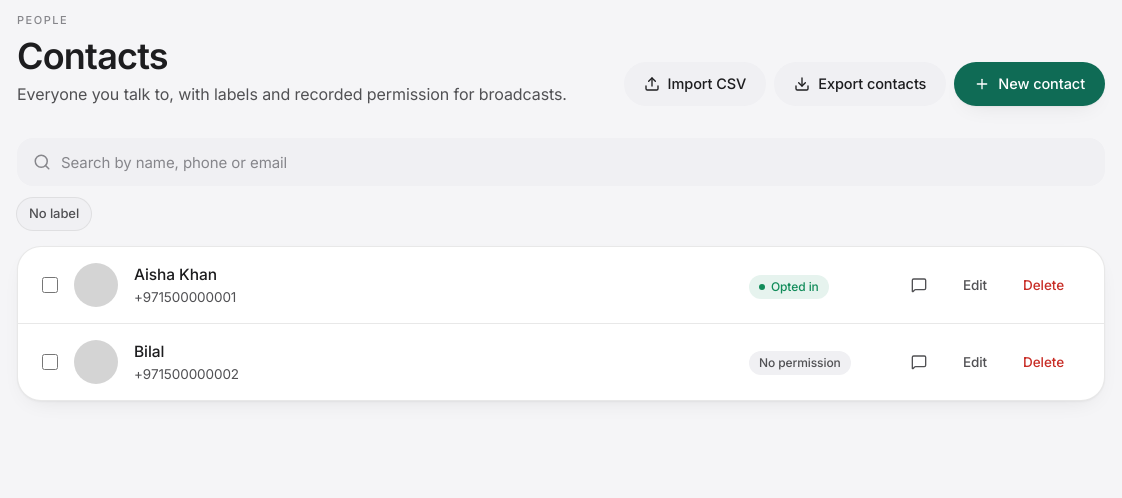
Contacts and the pipeline › has no pipeline actions on a plan without the pipeline
Check: the text "Aisha Khan" is shown, box [134,265,217,284]
anyone can select contacts to label them, but adding to the pipeline is not offered
Click the checkbox named "Select Aisha Khan": (50, 285) [42,277,58,293]
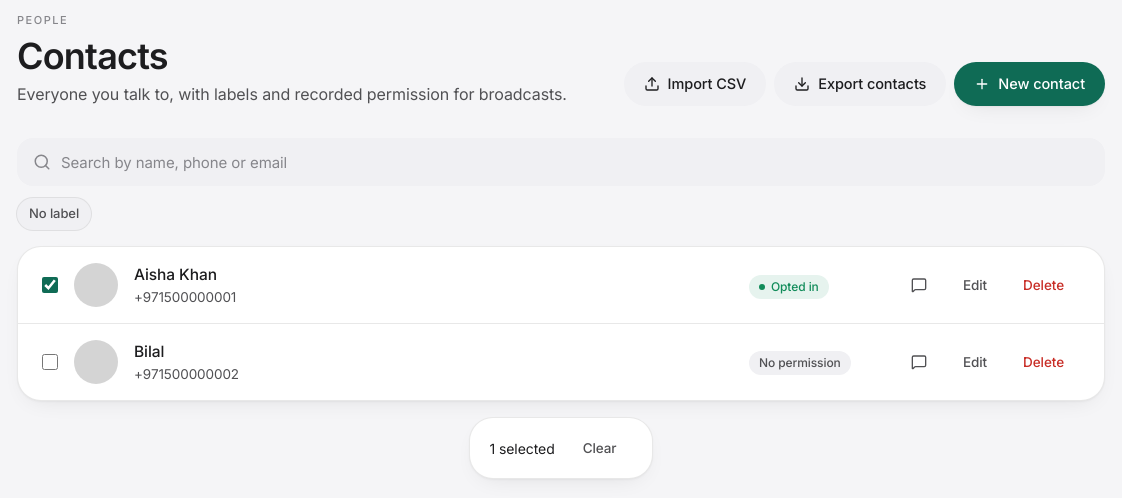
Check: the text "1 selected" is shown, box [490,438,555,459]
